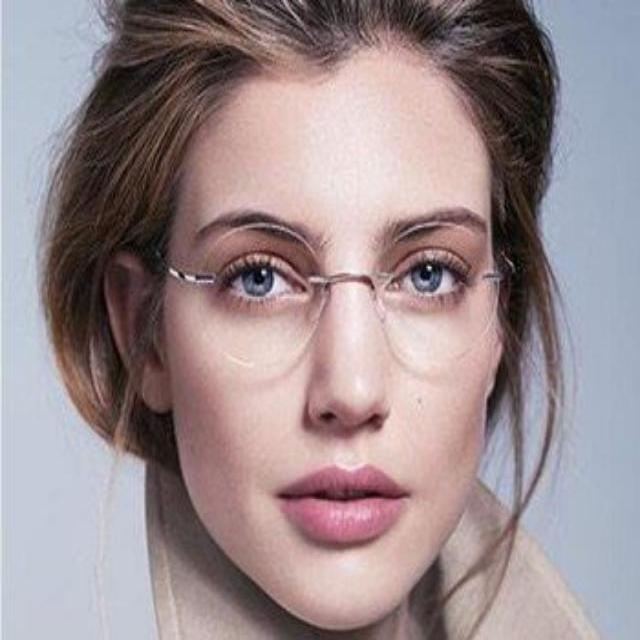glasses: (169, 221, 507, 368)
